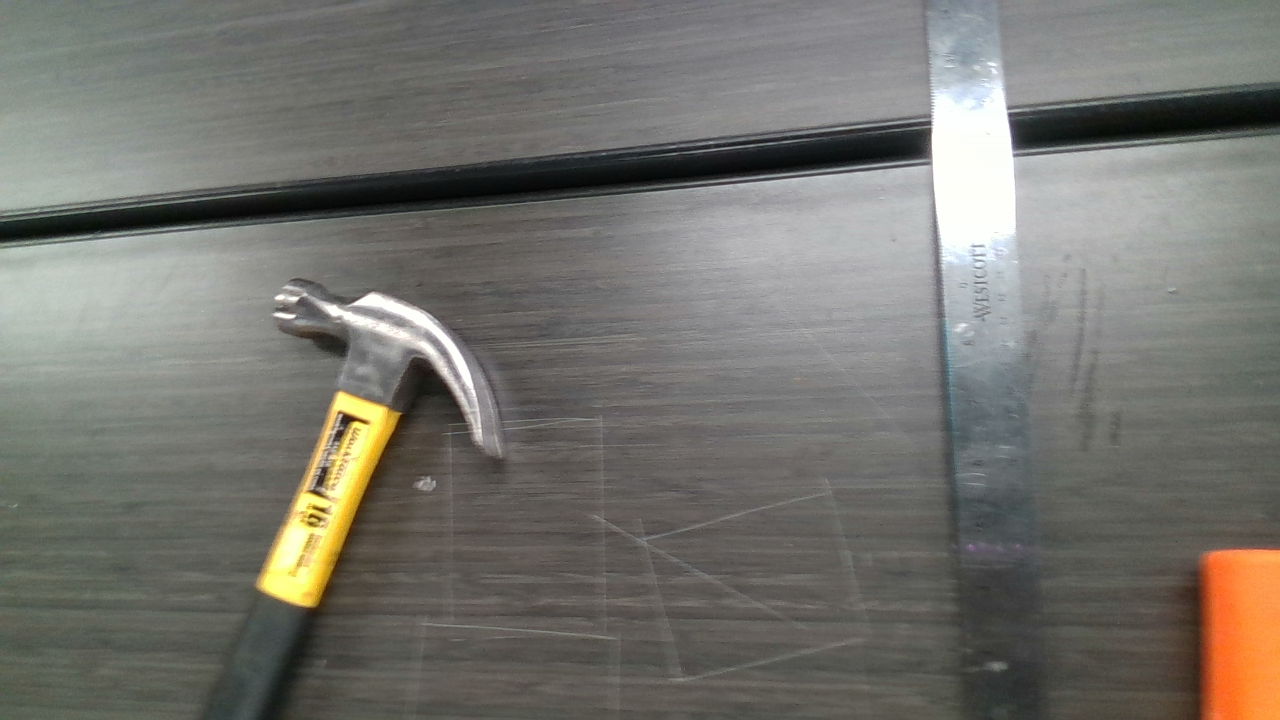Orange Hammer: (1197, 546, 1280, 720)
